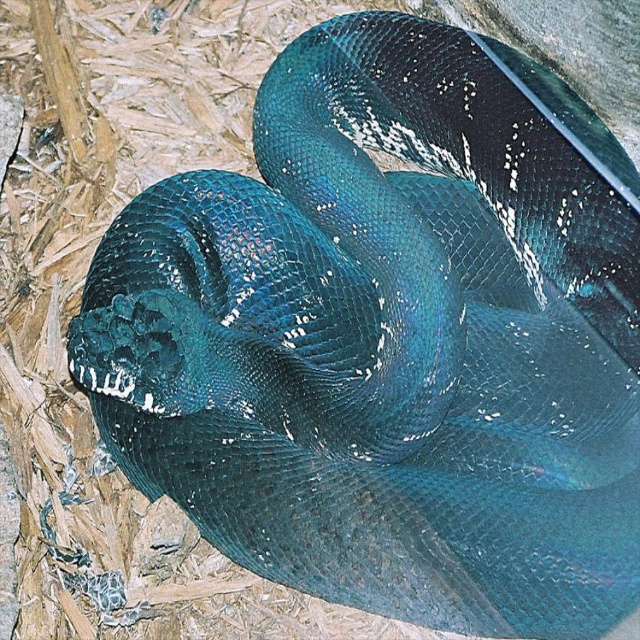Snake: (72, 10, 639, 639)
